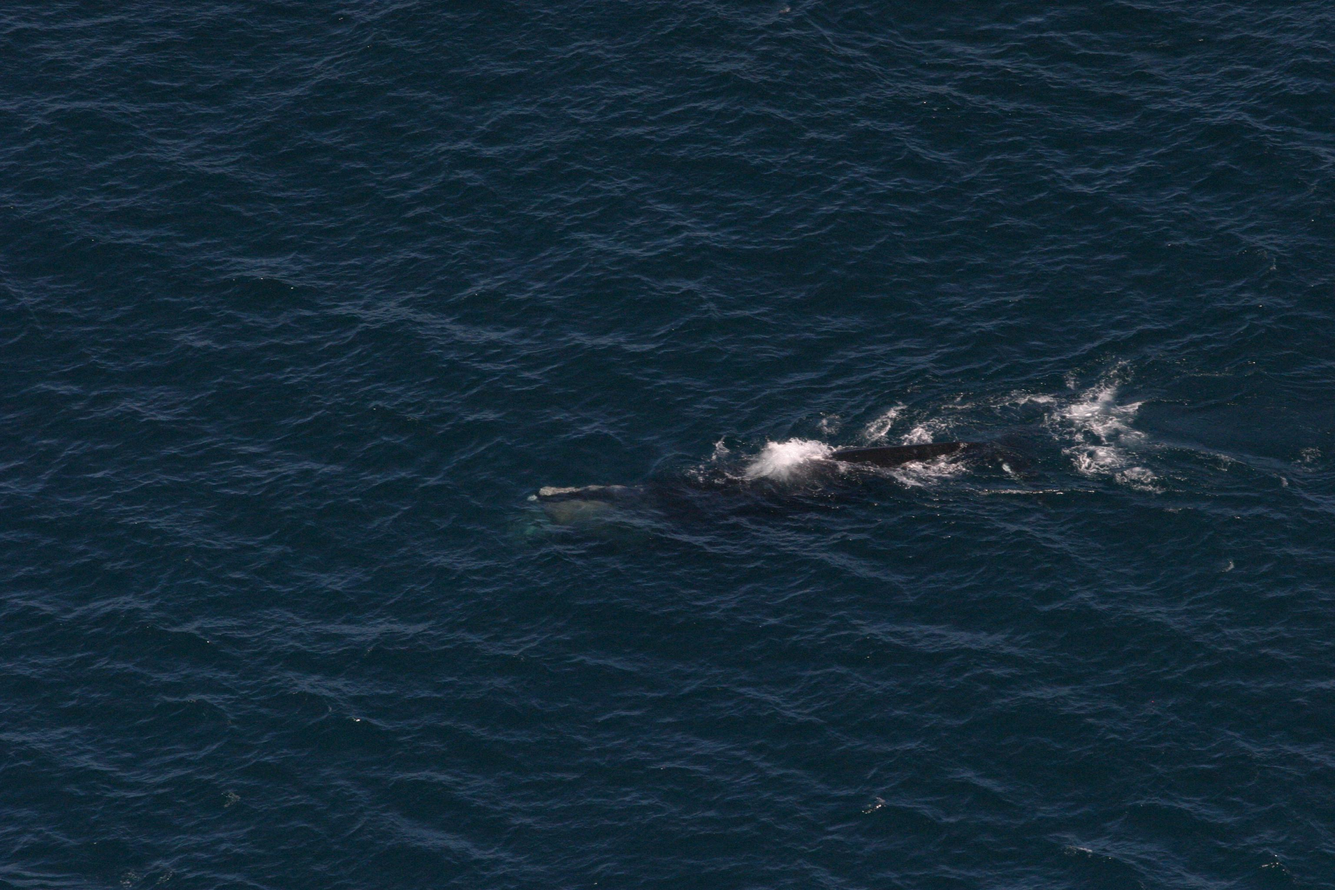whale: (503, 395, 1086, 551)
